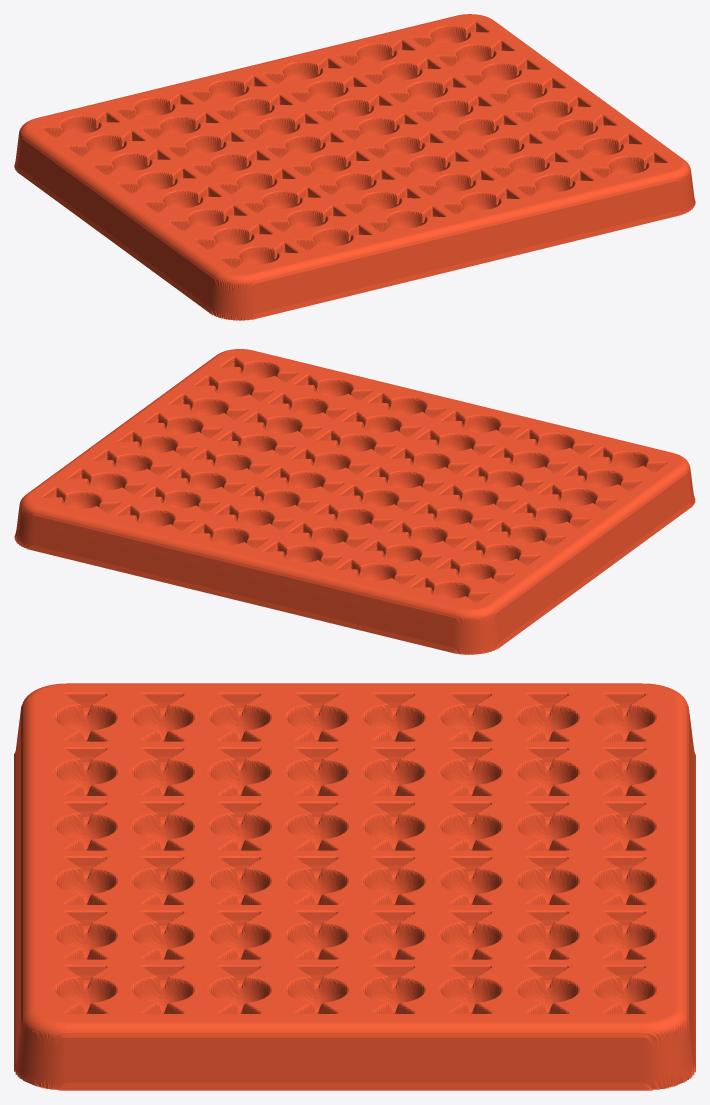
File: mold.glb
The picture shows the model from 3 angles, top to bottom: view 1: azimuth 30°, elevation 25°; view 2: azimuth 150°, elevation 25°; view 3: azimuth 270°, elevation 25°; orthographic projection. The views are drawn at different scales.
Parts seen in each view (by area): view 1: geometry_0; view 2: geometry_0; view 3: geometry_0.
Part boxes in pixels (left/top/right/bottom): geometry_0: left=14, top=14, right=695, bottom=320; geometry_0: left=14, top=349, right=695, bottom=654; geometry_0: left=14, top=683, right=695, bottom=1090.
Bounding box in the file's own units: 0.1443 × 0.0114 × 0.1172.
